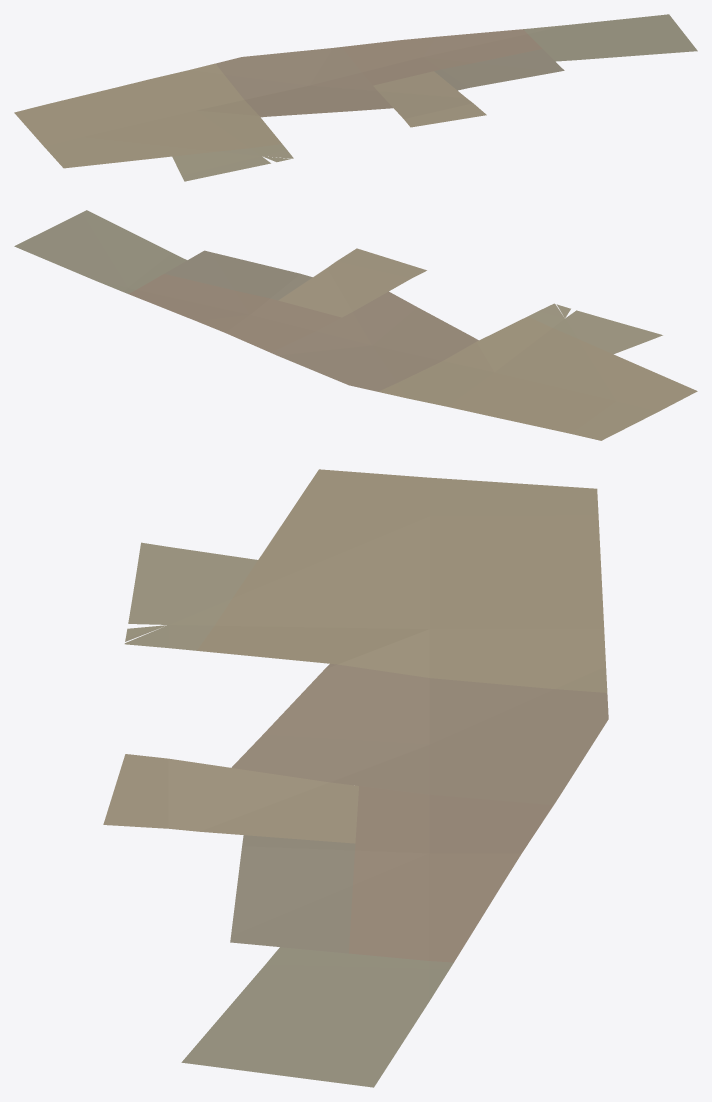
The model's file is farm_16_15_soil.glb.
3 renders of one model, top to bottom at view 1: azimuth 30°, elevation 25°; view 2: azimuth 150°, elevation 25°; view 3: azimuth 270°, elevation 25°, orthographic. The views are drawn at different scales.
Visible parts, largest first — view 1: geometry_0; view 2: geometry_0; view 3: geometry_0.
Part boxes in pixels (x1,y1,x2,y2): geometry_0: (14,14,697,181); geometry_0: (14,210,697,440); geometry_0: (103,469,608,1087).
Bounding box in the file's own units: 438 × 7.07 × 155.
